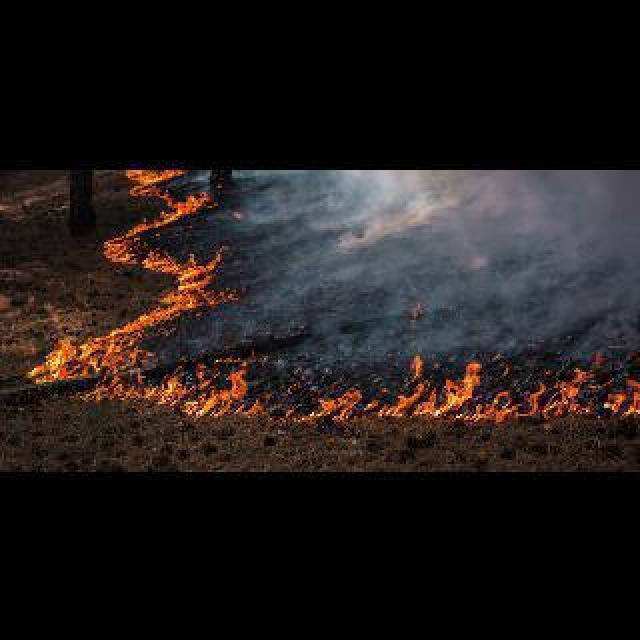Fire: (88, 168, 246, 340)
